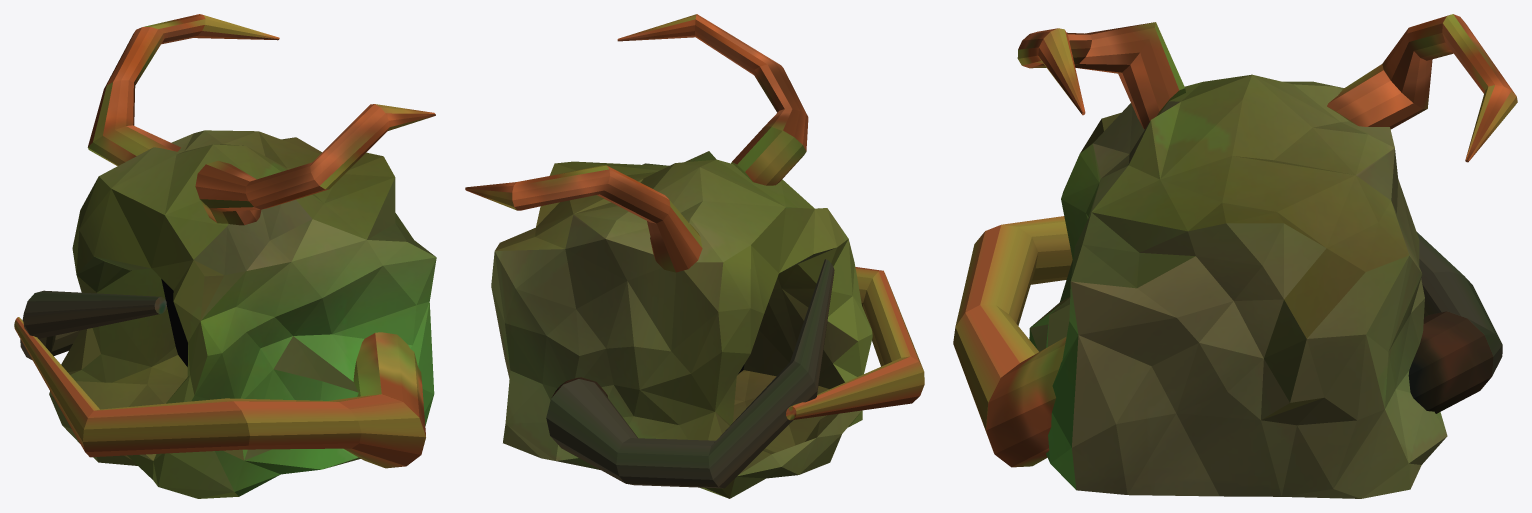
File: spawner.glb
3 renders of one model, left to right at view 1: azimuth 30°, elevation 25°; view 2: azimuth 150°, elevation 25°; view 3: azimuth 270°, elevation 25°, orthographic. The views are drawn at different scales.
Parts seen in each view (by area): view 1: Cube.001, Cylinder.036, branch.005, branch.004, Cylinder.035, Plane.001; view 2: Cube.001, Cylinder.035, branch.004, branch.005, Cylinder.036; view 3: Cube.001, Cylinder.036, branch.004, Cylinder.035, branch.005.
Boxes of the visible parts, <box> form: Cube.001: <box>49,130,436,498</box>; Cylinder.036: <box>14,317,425,468</box>; branch.005: <box>195,104,435,225</box>; branch.004: <box>87,14,279,166</box>; Cylinder.035: <box>20,290,166,360</box>; Plane.001: <box>161,279,187,366</box>; Cube.001: <box>491,151,872,498</box>; Cylinder.035: <box>546,259,834,488</box>; branch.004: <box>465,165,702,272</box>; branch.005: <box>617,14,808,185</box>; Cylinder.036: <box>786,267,924,420</box>; Cube.001: <box>1029,74,1447,498</box>; Cylinder.036: <box>953,216,1072,467</box>; branch.004: <box>1327,14,1517,162</box>; Cylinder.035: <box>1408,231,1502,413</box>; branch.005: <box>1017,22,1185,129</box>.
Size of the model in its own units: 3.37 by 3.22 by 3.71.
Materials: 6 (5 with a texture image).
